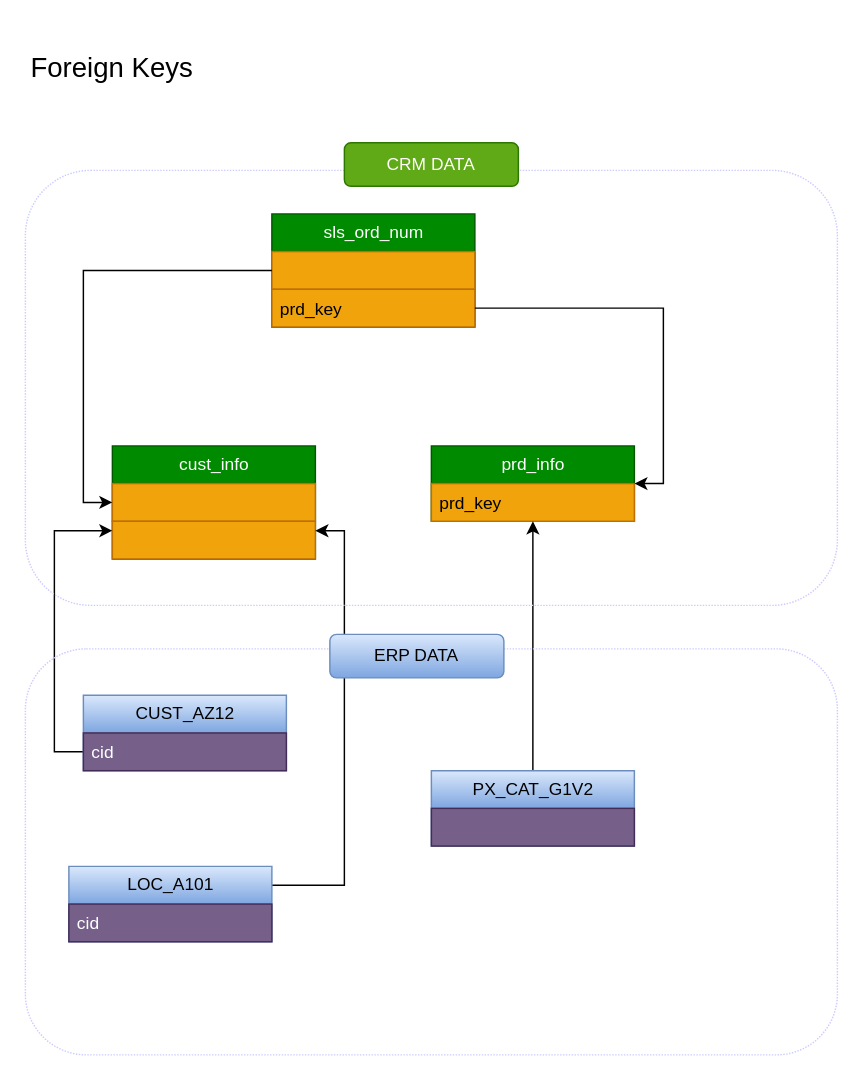
This 863x1080 diagram has some shape labels left out. The shapes that lost their labels are listed below. From the top down, each one's centre as x and y in pixels, then its label:
[372,269]: cust_id
[213,501]: cst_id
[213,539]: cst_key
[532,826]: id
